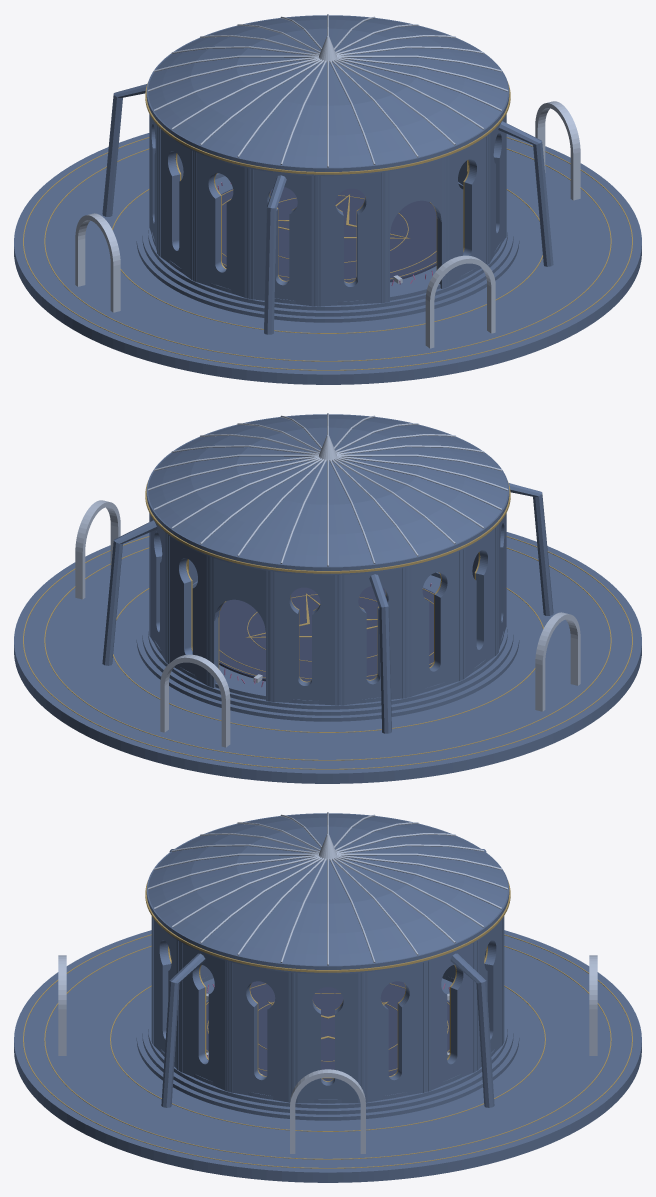
The picture shows the model from 3 angles, top to bottom: view 1: azimuth 30°, elevation 25°; view 2: azimuth 150°, elevation 25°; view 3: azimuth 270°, elevation 25°; orthographic projection.
Visible parts, largest first — view 1: TERRACE_finite_base, ROOF_hollow_dome, WALL_15_perforated, DANCE_floor, WALL_14_perforated, WALL_13_perforated, WALL_01_perforated, WALL_12_perforated, HALL_step_00, ROOF_drum, HALL_step_01, WALL_02_perforated (+21 smaller); view 2: TERRACE_finite_base, ROOF_hollow_dome, WALL_09_perforated, DANCE_floor, WALL_10_perforated, WALL_11_perforated, WALL_07_perforated, WALL_12_perforated, HALL_step_00, ROOF_drum, HALL_step_01, WALL_06_perforated (+21 smaller); view 3: TERRACE_finite_base, ROOF_hollow_dome, WALL_03_perforated, WALL_05_perforated, WALL_04_perforated, WALL_02_perforated, WALL_06_perforated, DANCE_floor, ROOF_drum, HALL_step_00, HALL_step_01, WALL_01_perforated (+19 smaller).
Boxes of the visible parts, <box> form: TERRACE_finite_base: <box>14,133,641,384</box>; ROOF_hollow_dome: <box>148,16,507,167</box>; WALL_15_perforated: <box>317,172,384,306</box>; DANCE_floor: <box>221,187,436,282</box>; WALL_14_perforated: <box>249,168,315,306</box>; WALL_13_perforated: <box>194,151,247,298</box>; WALL_01_perforated: <box>446,135,488,287</box>; WALL_12_perforated: <box>158,127,192,280</box>; HALL_step_00: <box>136,210,519,322</box>; ROOF_drum: <box>146,15,509,176</box>; HALL_step_01: <box>142,214,513,316</box>; WALL_02_perforated: <box>488,114,506,263</box>; TERRACE_finite_base: <box>14,532,641,783</box>; ROOF_hollow_dome: <box>148,415,507,566</box>; WALL_09_perforated: <box>271,571,338,705</box>; DANCE_floor: <box>219,586,434,681</box>; WALL_10_perforated: <box>340,567,406,705</box>; WALL_11_perforated: <box>408,550,461,697</box>; WALL_07_perforated: <box>167,534,209,686</box>; WALL_12_perforated: <box>463,526,497,679</box>; HALL_step_00: <box>136,609,519,721</box>; ROOF_drum: <box>146,414,509,575</box>; HALL_step_01: <box>142,613,513,715</box>; WALL_06_perforated: <box>149,513,167,662</box>; TERRACE_finite_base: <box>14,930,641,1182</box>; ROOF_hollow_dome: <box>148,814,507,965</box>; WALL_03_perforated: <box>229,962,292,1102</box>; WALL_05_perforated: <box>363,962,426,1102</box>; WALL_04_perforated: <box>294,973,361,1103</box>; WALL_02_perforated: <box>179,942,227,1091</box>; WALL_06_perforated: <box>428,942,476,1091</box>; DANCE_floor: <box>206,981,449,1080</box>; ROOF_drum: <box>146,813,509,974</box>; HALL_step_00: <box>136,1005,519,1120</box>; HALL_step_01: <box>142,1009,513,1114</box>; WALL_01_perforated: <box>152,917,178,1070</box>.
Bounding box in the file's own units: 22 × 8.35 × 22.
